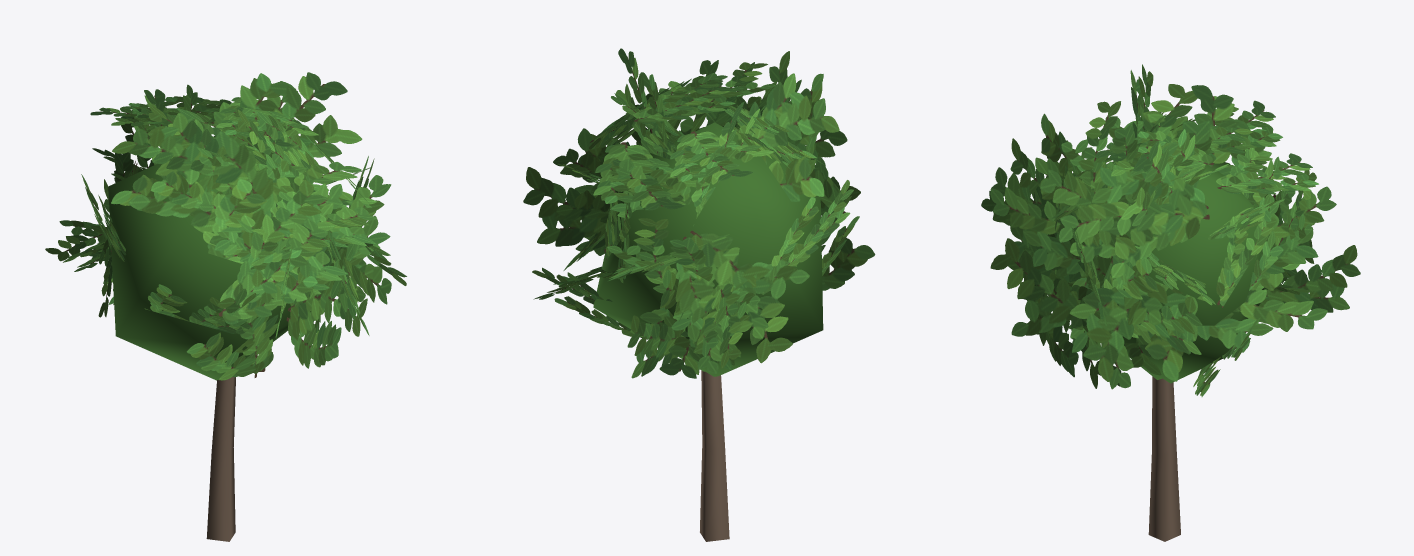
The model's file is ULMUS_2.glb.
3 renders of one model, left to right at view 1: azimuth 30°, elevation 25°; view 2: azimuth 150°, elevation 25°; view 3: azimuth 270°, elevation 25°, orthographic. The views are drawn at different scales.
Parts seen in each view (by area): view 1: Arv_ULMUS_lod2; view 2: Arv_ULMUS_lod2; view 3: Arv_ULMUS_lod2.
Boxes of the visible parts, box(x1,y1,x2,y2) form: Arv_ULMUS_lod2: box(45, 72, 406, 541); Arv_ULMUS_lod2: box(523, 48, 875, 541); Arv_ULMUS_lod2: box(981, 64, 1360, 541).
Bounding box in the file's own units: 8.67 × 11.61 × 9.73.
Materials: 3 (1 with a texture image).
